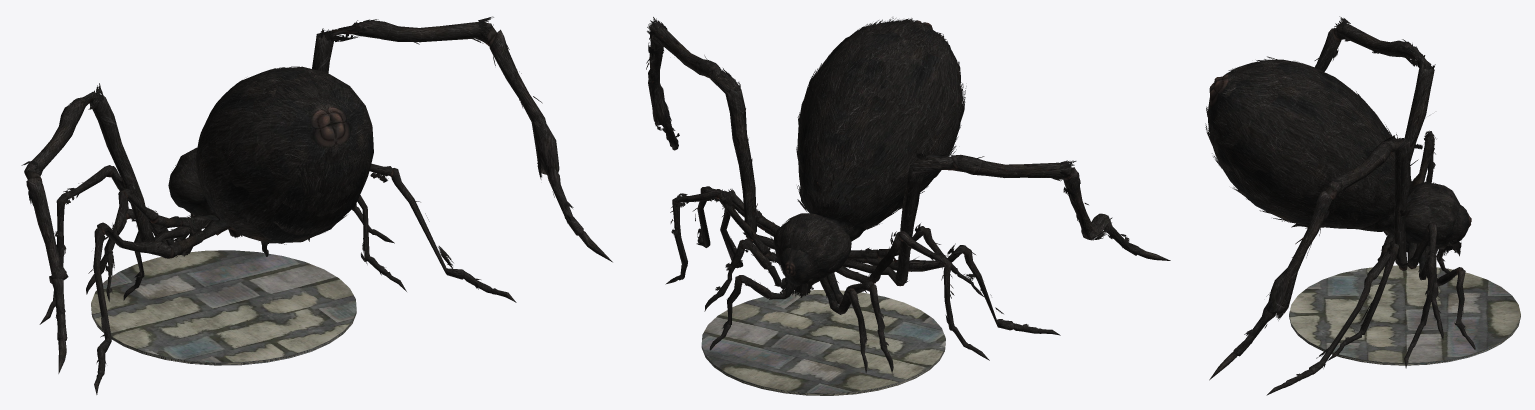
Rendered from large-nightmare-apostle.glb.
3 renders of one model, left to right at view 1: azimuth 30°, elevation 25°; view 2: azimuth 150°, elevation 25°; view 3: azimuth 270°, elevation 25°, orthographic. The views are drawn at different scales.
Visible parts, largest first — view 1: 0-m2_body.obj, 1-Cylinder.obj, 2-m3_fur.obj; view 2: 0-m2_body.obj, 2-m3_fur.obj, 1-Cylinder.obj; view 3: 0-m2_body.obj, 1-Cylinder.obj, 2-m3_fur.obj.
Boxes of the visible parts, <box> form: 0-m2_body.obj: <box>24,20,612,394</box>; 1-Cylinder.obj: <box>91,250,356,365</box>; 2-m3_fur.obj: <box>21,16,573,363</box>; 0-m2_body.obj: <box>648,20,1170,373</box>; 2-m3_fur.obj: <box>646,17,1129,346</box>; 1-Cylinder.obj: <box>701,290,945,395</box>; 0-m2_body.obj: <box>1208,23,1475,395</box>; 1-Cylinder.obj: <box>1289,265,1520,365</box>; 2-m3_fur.obj: <box>1205,16,1465,380</box>.
Bounding box in the file's own units: 9.52 × 4.84 × 5.54.
3 materials, 3 textured.
